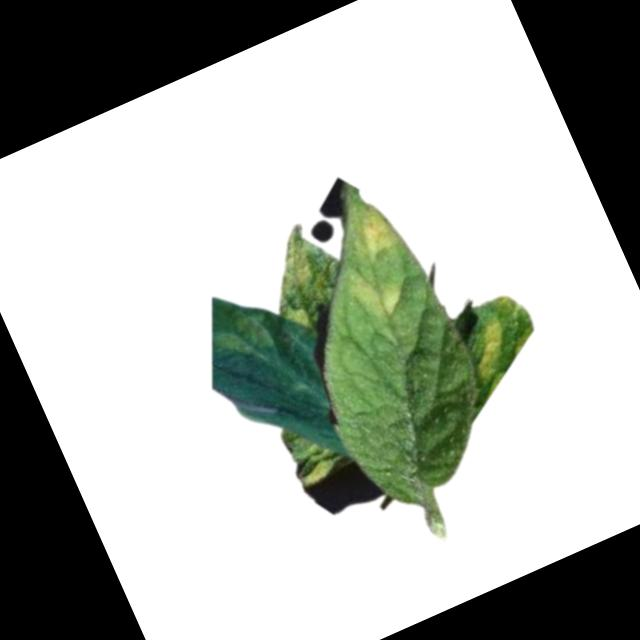Leaf_Mold: (251, 224, 345, 339), (452, 290, 547, 391), (206, 298, 283, 369), (342, 193, 411, 269), (348, 257, 412, 323), (290, 446, 335, 489)
